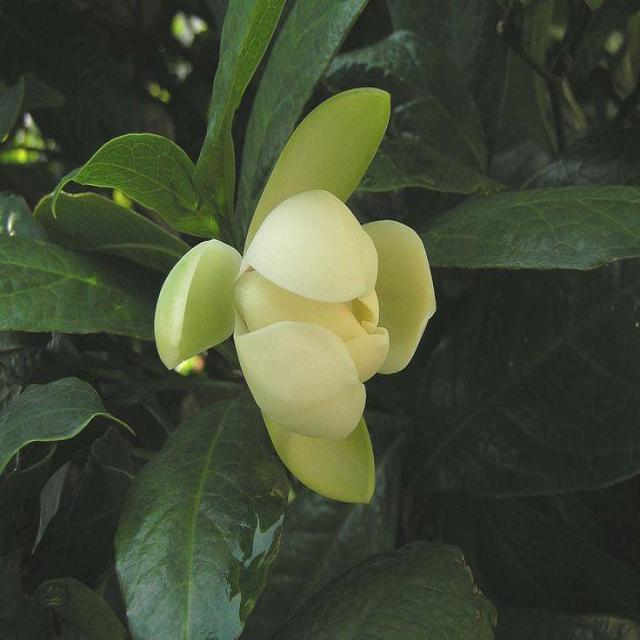organic waste: (171, 70, 408, 507)
